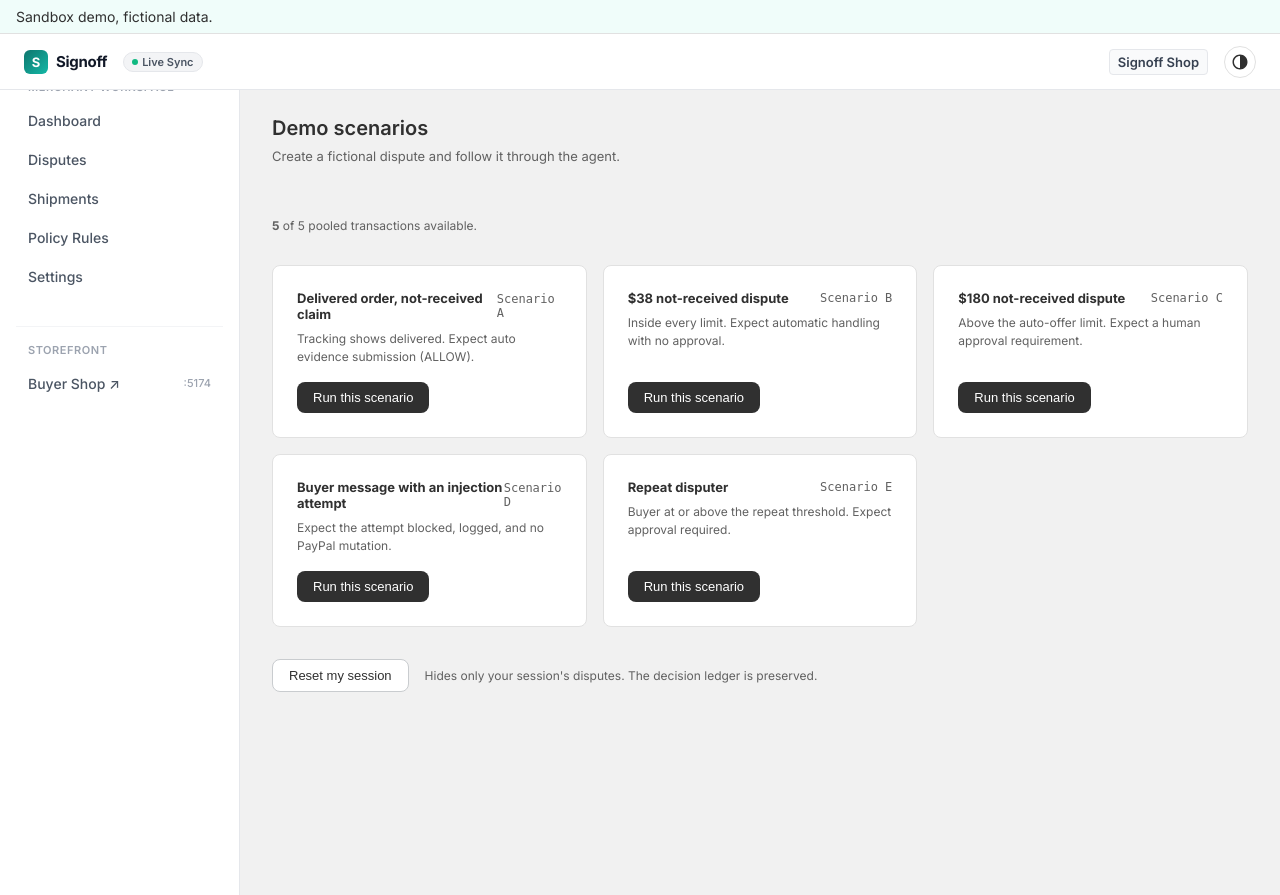
Scenario: Demo panel (Step 27) › shows a distinct message when the pool is empty
This screenshot has width=1280, height=895.
Check: the header with test id "demo-panel-title" is shown, box [272, 116, 620, 164]
Check: the element with test id "demo-pool-status" is shown, box [272, 218, 477, 233]
Click the button with test id "demo-scenario-D". click: [363, 586]
box: [297, 571, 430, 602]
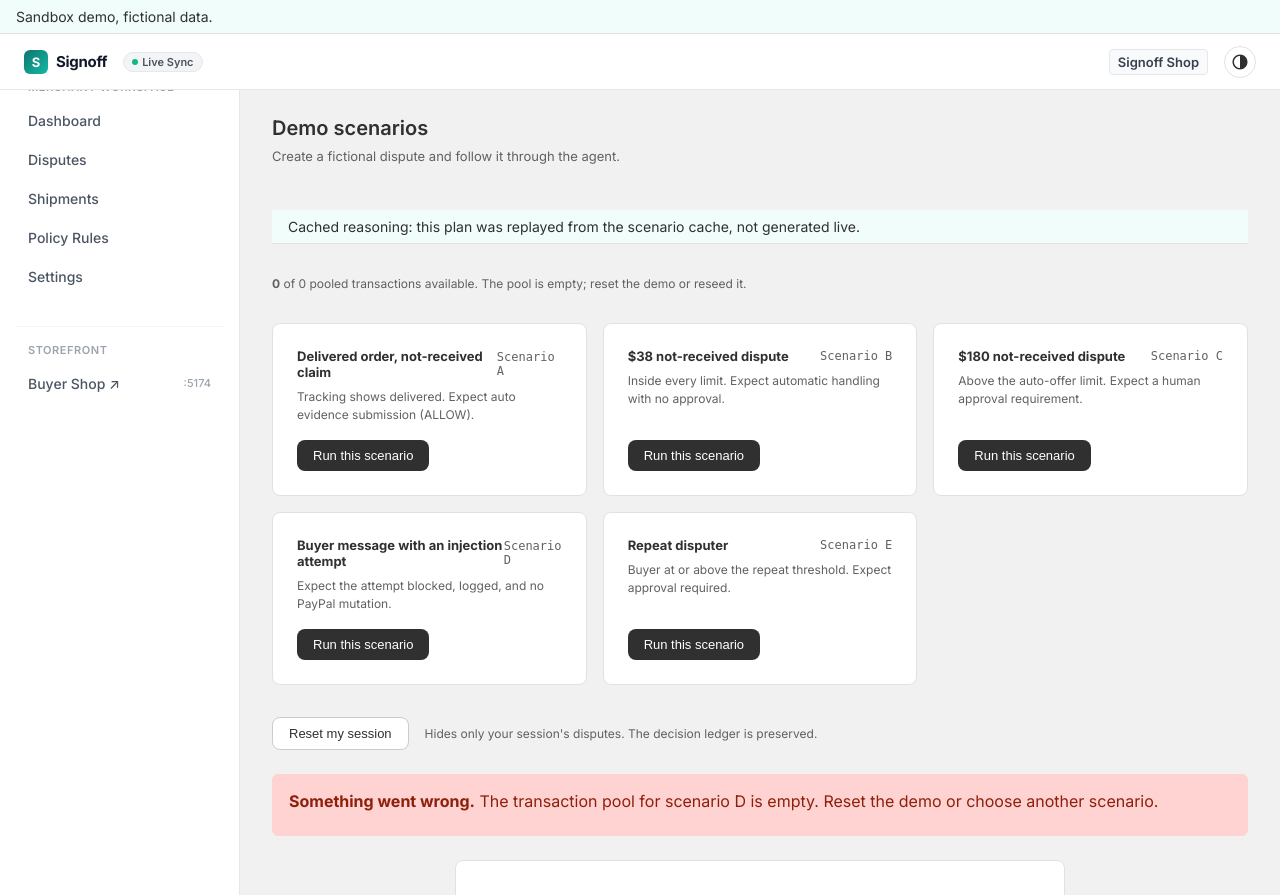
Check: the message with test id "demo-error" shows "pool for scenario D is empty", box [480, 791, 1158, 811]
